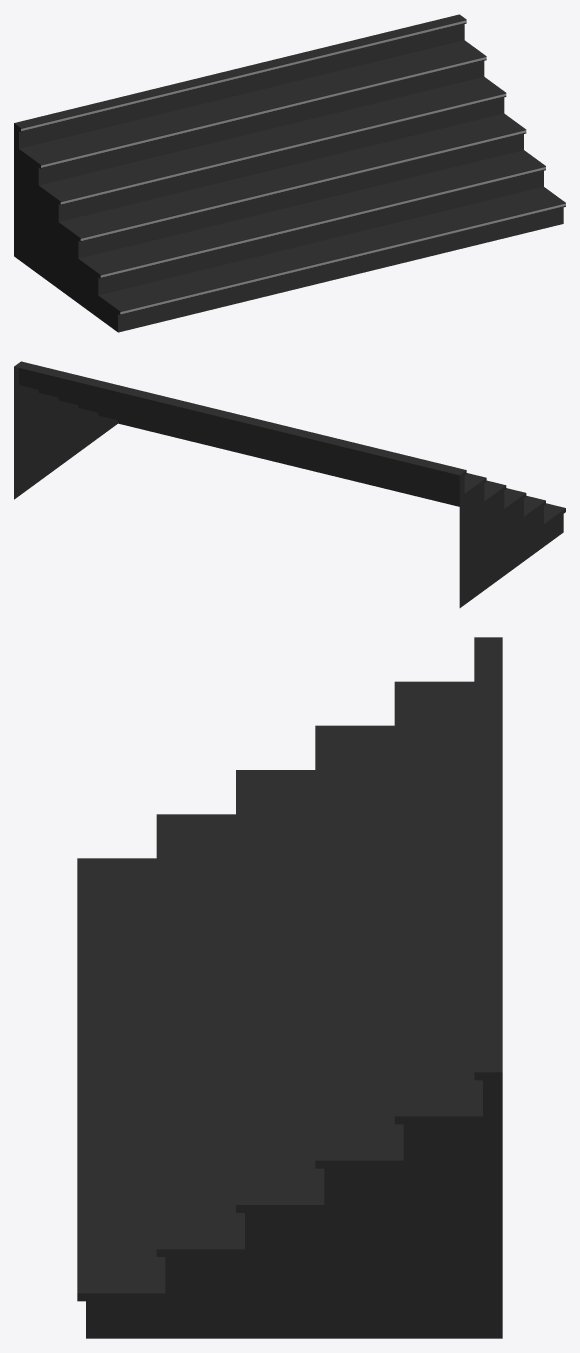
File: Floor02_6.FBX
3 views of the same model, one above another, from view 1: azimuth 30°, elevation 25°; view 2: azimuth 150°, elevation 25°; view 3: azimuth 270°, elevation 25° (orthographic). The views are drawn at different scales.
Visible parts, largest first — view 1: Floor02_6; view 2: Floor02_6; view 3: Floor02_6.
Part boxes in pixels (x1,y1,x2,y2): Floor02_6: (14,14,565,332); Floor02_6: (14,361,565,607); Floor02_6: (77,637,502,1338).
Size of the model in its own units: 3500 by 1000 by 1447.
